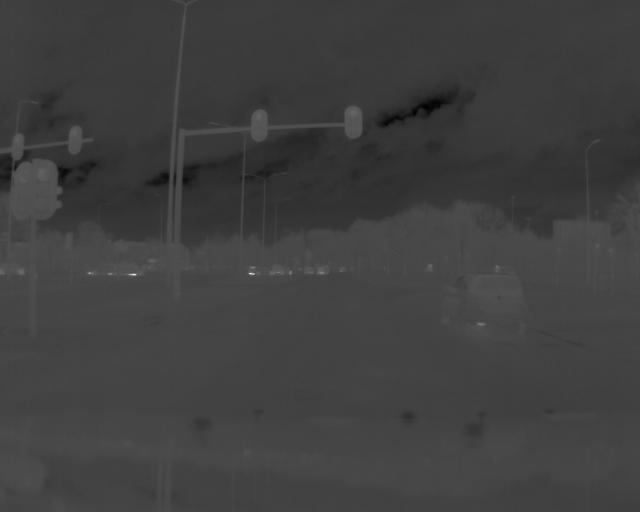car: (438, 271, 531, 336)
